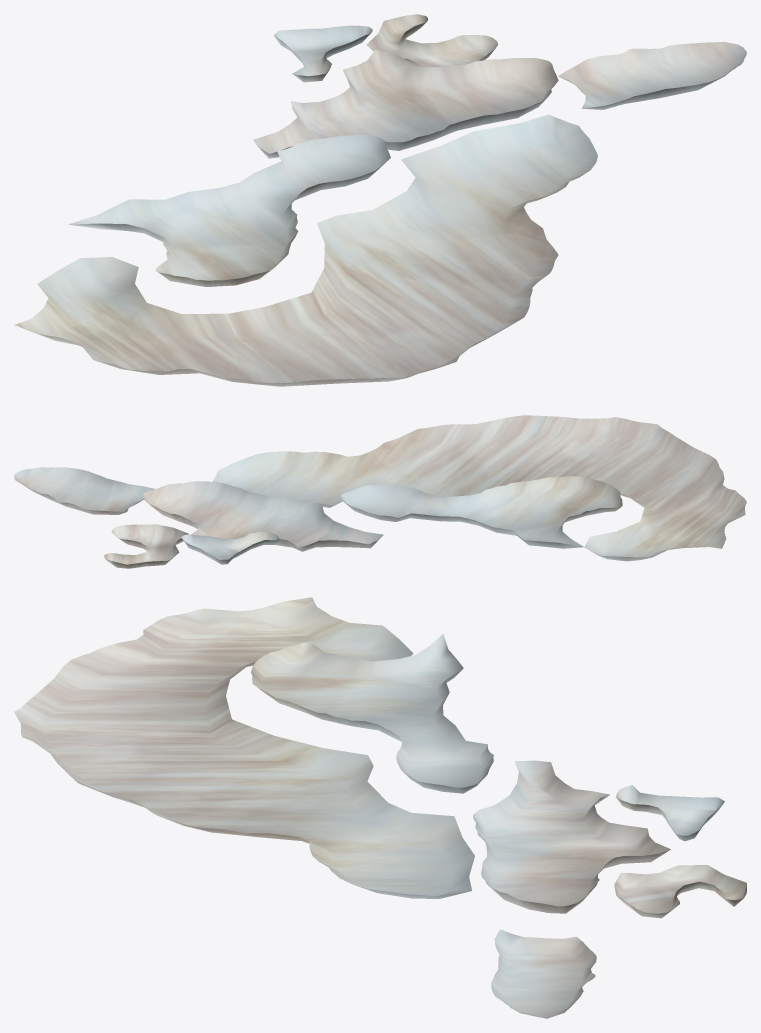
File: M5_T_hedi002.FBX
3 renders of one model, top to bottom at view 1: azimuth 30°, elevation 25°; view 2: azimuth 150°, elevation 25°; view 3: azimuth 270°, elevation 25°, orthographic. The views are drawn at different scales.
Visible parts, largest first — view 1: M5_T_hedi002; view 2: M5_T_hedi002; view 3: M5_T_hedi002.
Part boxes in pixels (<box>): M5_T_hedi002: <box>14,14,746,386</box>; M5_T_hedi002: <box>14,415,746,568</box>; M5_T_hedi002: <box>14,597,746,1018</box>.
Bounding box in the file's own units: 6484 × 378 × 4971.
